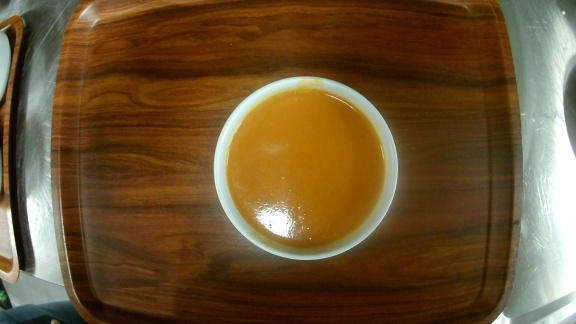domatescorba: (211, 73, 401, 262)
